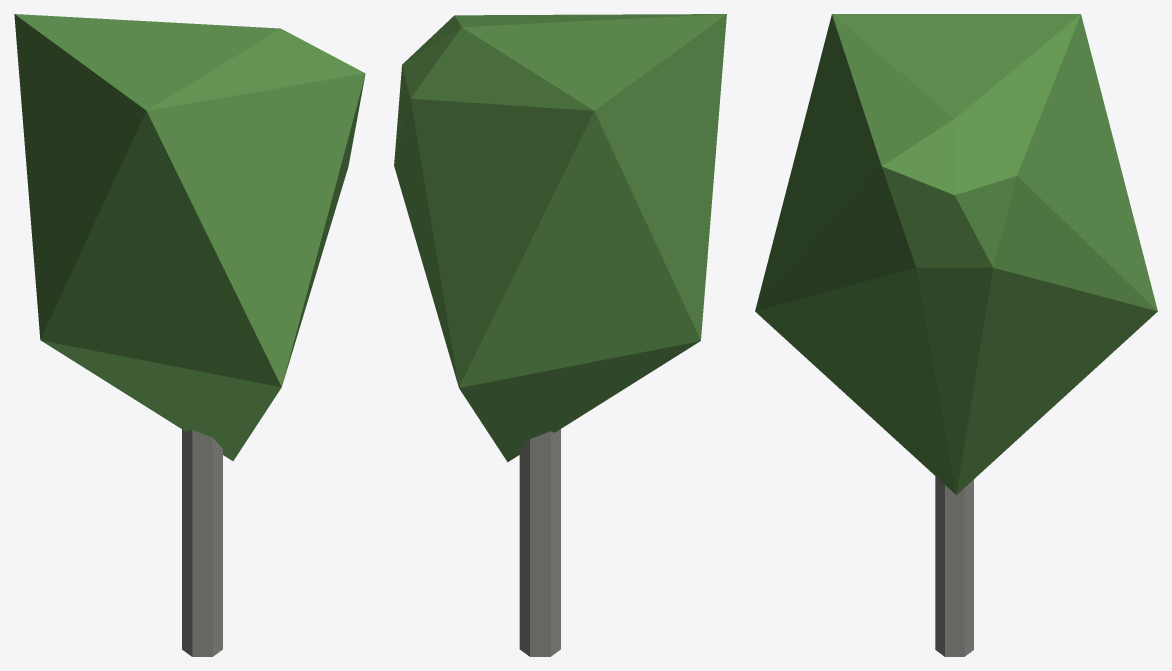
File: コーヒーの木.fbx
3 views of the same model, side by side, from view 1: azimuth 30°, elevation 25°; view 2: azimuth 150°, elevation 25°; view 3: azimuth 270°, elevation 25° (orthographic). The views are drawn at different scales.
Parts seen in each view (by area): view 1: ICO球, 円柱; view 2: ICO球, 円柱; view 3: ICO球, 円柱.
Boxes of the visible parts, <box> form: ICO球: <box>14,14,365,460</box>; 円柱: <box>182,429,222,656</box>; ICO球: <box>394,14,726,462</box>; 円柱: <box>519,429,560,656</box>; ICO球: <box>755,14,1157,494</box>; 円柱: <box>935,476,973,656</box>.
Bounding box in the file's own units: 253 × 497 × 313.
